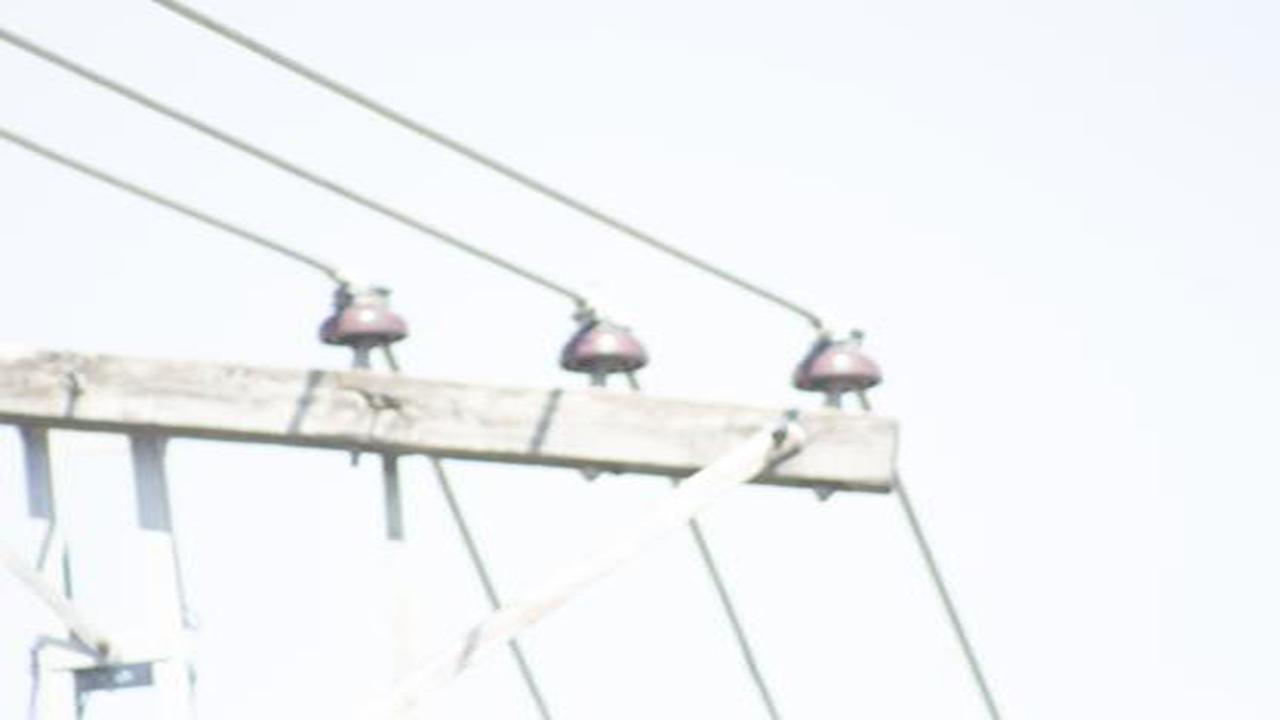insulator_pin: (783, 323, 887, 397), (555, 302, 650, 377), (316, 279, 414, 351)
